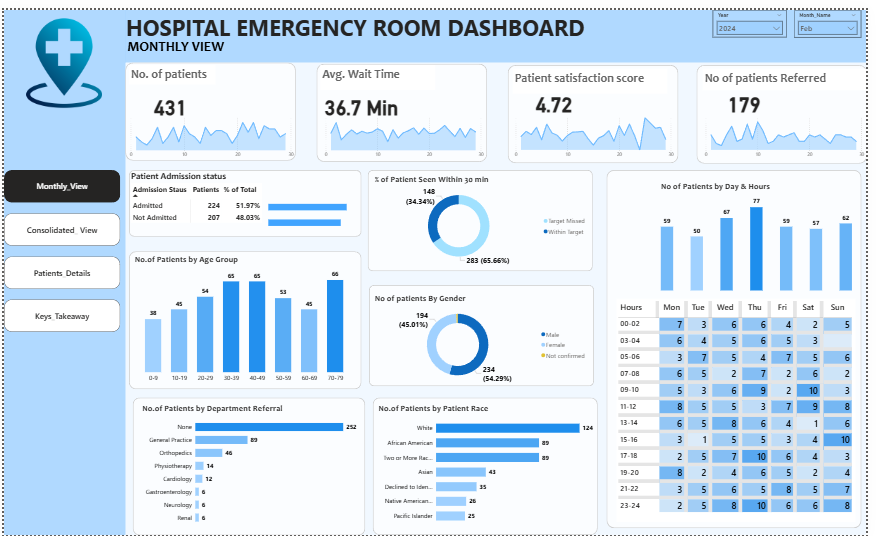

The page's visual inventory and layout, read from the dashboard file:
{"tool":"powerbi","page":{"name":"Monthly_View","canvas":[2300,1400],"ordinal":0},"visuals":[{"type":"shape","box":[321.7,0,1979,140.3],"z":0},{"type":"shape","box":[0,0,324.1,1400.5],"z":1000},{"type":"textbox","box":[319.3,0,1262.6,89.5],"z":2000},{"type":"textbox","box":[321.7,70,300,58.3],"z":3000},{"type":"shape","box":[322,140,455,262],"z":4000},{"type":"card","fields":{"Values":["Measure.No.of Patients"]},"box":[331.7,200,220,110],"z":5000},{"type":"slicer","fields":{"Values":["Calendar_Table.Year"]},"box":[1890,0,197.5,72.5],"z":6000},{"type":"slicer","fields":{"Values":["Calendar_Table.Month_Name"]},"box":[2107.4,0,179.4,73.5],"z":7000},{"type":"textbox","box":[334.8,147.8,230.4,52.2],"z":8000},{"type":"areaChart","fields":{"Category":["Calendar_Table.Date.Variation.Date Hierarchy.Day"],"Y":["Measure.No.of Patients"]},"box":[323.3,273.3,456.7,130],"z":9000},{"type":"shape","box":[832.4,142,455,262],"z":10000},{"type":"shape","box":[1342.9,148,455,262],"z":11000},{"type":"shape","box":[1845,146.7,455,263.3],"z":12000},{"type":"textbox","box":[843.3,146.7,306.7,66.7],"z":13000},{"type":"areaChart","fields":{"Category":["Calendar_Table.Date.Variation.Date Hierarchy.Day"],"Y":["Avg(Hospital ER_Data.Patient Waittime)"]},"box":[843.3,271.7,443.3,130],"z":14000},{"type":"card","fields":{"Values":["Measure.Avg.wait Time"]},"box":[843.3,200,220,110],"z":15000},{"type":"textbox","box":[1356.7,156.7,411.7,66.7],"z":16000},{"type":"card","fields":{"Values":["Measure.Avg.Satisfaction score"]},"box":[1356.7,190,220,110],"z":17000},{"type":"areaChart","fields":{"Category":["Calendar_Table.Date.Variation.Date Hierarchy.Day"],"Y":["Measure.Avg.Satisfaction score"]},"box":[1348.3,273.3,443.3,130],"z":18000},{"type":"textbox","box":[1862.5,157.5,437.5,57.5],"z":19000},{"type":"card","fields":{"Values":["Measure.No. of patients Referred"]},"box":[1862.5,190,220,110],"z":20000},{"type":"areaChart","fields":{"Category":["Calendar_Table.Date.Variation.Date Hierarchy.Day"],"Y":["Measure.No. of patients Referred"]},"box":[1855,272.5,445,130],"z":21000},{"type":"shape","box":[332,426,620,178],"z":22000},{"type":"pivotTable","title":"Patient Admission status","fields":{"Rows":["Hospital ER_Data.Admission Staus"],"Values":["Measure.No.of Patients1","Measure.No.of Patients"]},"box":[334,426,614,178],"z":23000},{"type":"barChart","fields":{"Category":["Hospital ER_Data.Admission Staus"],"Y":["Measure.No.of Patients"]},"box":[700,482,290,122],"z":24000},{"type":"shape","box":[334,642,620,368],"z":25000},{"type":"clusteredColumnChart","fields":{"Category":["Hospital ER_Data.Age Group"],"Y":["Measure.No.of Patients"]},"box":[344,650,596,352],"z":26000},{"type":"shape","box":[344,1032,620,368],"z":27000},{"type":"clusteredBarChart","fields":{"Category":["Hospital ER_Data.Department Referral"],"Y":["Measure.No.of Patients"]},"box":[362.5,1045,585,337.5],"z":28000},{"type":"shape","box":[970,425,600,270],"z":29000},{"type":"donutChart","title":"% of Patient Seen Within 30 min","fields":{"Category":["Hospital ER_Data.Patient Wait Time"],"Y":["Measure.No.of Patients"]},"box":[982.5,435,580,250],"z":30000},{"type":"shape","box":[972.5,732.5,600,270],"z":31000},{"type":"donutChart","title":"No of patients By Gender","fields":{"Y":["Measure.No.of Patients"],"Category":["Hospital ER_Data.Patient Gender"]},"box":[982.5,752.5,580,250],"z":32000},{"type":"shape","box":[983.3,1033.3,600,366.7],"z":33000},{"type":"clusteredBarChart","fields":{"Y":["Measure.No.of Patients"],"Category":["Hospital ER_Data.Patient Race"]},"box":[993.3,1046.7,583.3,336.7],"z":34000},{"type":"shape","box":[1607.5,425,680,955],"z":35000},{"type":"pivotTable","fields":{"Rows":["Hospital ER_Data.Waittime Interval"],"Values":["Measure.No.of Patients"],"Columns":["Calendar_Table.Day Name"]},"box":[1632.5,770,637.5,595],"z":36000},{"type":"columnChart","title":"No of Patients by Day & Hours","fields":{"Category":["Calendar_Table.Day Name"],"Y":["Measure.No.of Patients"]},"box":[1747.5,455,522.5,297.5],"z":37000},{"type":"image","box":[10.5,18,300,250],"z":38000},{"type":"pageNavigator","box":[0,426.7,310,433.3],"z":39000},{"type":"card","fields":{"Values":["Min(Calendar_Table.Month & Year)"]},"box":[622,90,242,38],"z":40000},{"type":"image","box":[1710.1,159.6,77,82],"z":41000},{"type":"image","box":[2222.9,142.7,77.4,82],"z":42000},{"type":"image","box":[699,142.7,77.4,82.2],"z":44000},{"type":"image","box":[1194.9,150,77,82],"z":45000}]}

Visuals, with their boxes in screenshot pixels (x1, y1, x2, y2), scaled from the page's 2300x1400 canvas onto the 877x536 screenshot:
shape: box(123, 0, 876, 54)
shape: box(0, 0, 124, 535)
textbox: box(122, 0, 603, 34)
textbox: box(123, 27, 237, 49)
shape: box(123, 54, 296, 154)
card - Measure.No.of Patients: box(126, 77, 210, 119)
slicer - Calendar_Table.Year: box(721, 0, 796, 28)
slicer - Calendar_Table.Month_Name: box(804, 0, 872, 28)
textbox: box(128, 57, 216, 77)
areaChart - Calendar_Table.Date.Variation.Date Hierarchy.Day x Measure.No.of Patients: box(123, 105, 297, 154)
shape: box(317, 54, 491, 155)
shape: box(512, 57, 686, 157)
shape: box(704, 56, 876, 157)
textbox: box(322, 56, 438, 82)
areaChart - Calendar_Table.Date.Variation.Date Hierarchy.Day x Avg(Hospital ER_Data.Patient Waittime): box(322, 104, 491, 154)
card - Measure.Avg.wait Time: box(322, 77, 405, 119)
textbox: box(517, 60, 674, 86)
card - Measure.Avg.Satisfaction score: box(517, 73, 601, 115)
areaChart - Calendar_Table.Date.Variation.Date Hierarchy.Day x Measure.Avg.Satisfaction score: box(514, 105, 683, 154)
textbox: box(710, 60, 876, 82)
card - Measure.No. of patients Referred: box(710, 73, 794, 115)
areaChart - Calendar_Table.Date.Variation.Date Hierarchy.Day x Measure.No. of patients Referred: box(707, 104, 876, 154)
shape: box(127, 163, 363, 231)
"Patient Admission status" pivotTable: box(127, 163, 361, 231)
barChart - Hospital ER_Data.Admission Staus x Measure.No.of Patients: box(267, 185, 377, 231)
shape: box(127, 246, 364, 387)
clusteredColumnChart - Hospital ER_Data.Age Group x Measure.No.of Patients: box(131, 249, 358, 384)
shape: box(131, 395, 368, 535)
clusteredBarChart - Hospital ER_Data.Department Referral x Measure.No.of Patients: box(138, 400, 361, 529)
shape: box(370, 163, 599, 266)
"% of Patient Seen Within 30 min" donutChart: box(375, 167, 596, 262)
shape: box(371, 280, 600, 384)
"No of patients By Gender" donutChart: box(375, 288, 596, 384)
shape: box(375, 396, 604, 535)
clusteredBarChart - Measure.No.of Patients x Hospital ER_Data.Patient Race: box(379, 401, 601, 530)
shape: box(613, 163, 872, 528)
pivotTable - Hospital ER_Data.Waittime Interval x Measure.No.of Patients: box(622, 295, 866, 523)
"No of Patients by Day & Hours" columnChart: box(666, 174, 866, 288)
image: box(4, 7, 118, 103)
pageNavigator: box(0, 163, 118, 329)
card - Min(Calendar_Table.Month & Year): box(237, 34, 329, 49)
image: box(652, 61, 681, 92)
image: box(848, 55, 876, 86)
image: box(267, 55, 296, 86)
image: box(456, 57, 485, 89)
